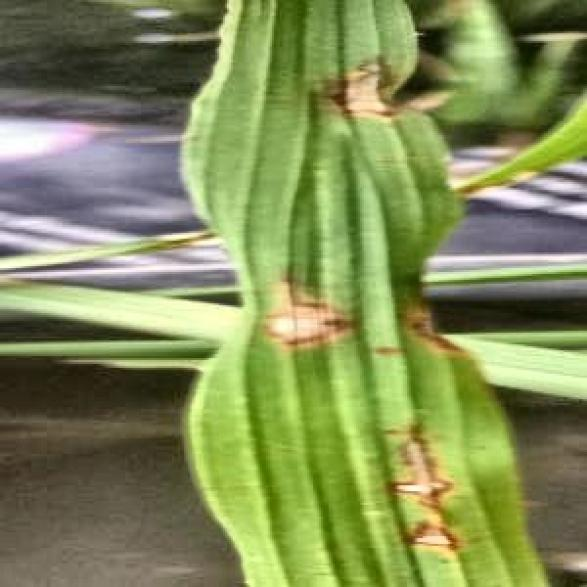Leaf_smut: (252, 260, 493, 556), (303, 45, 413, 133)
